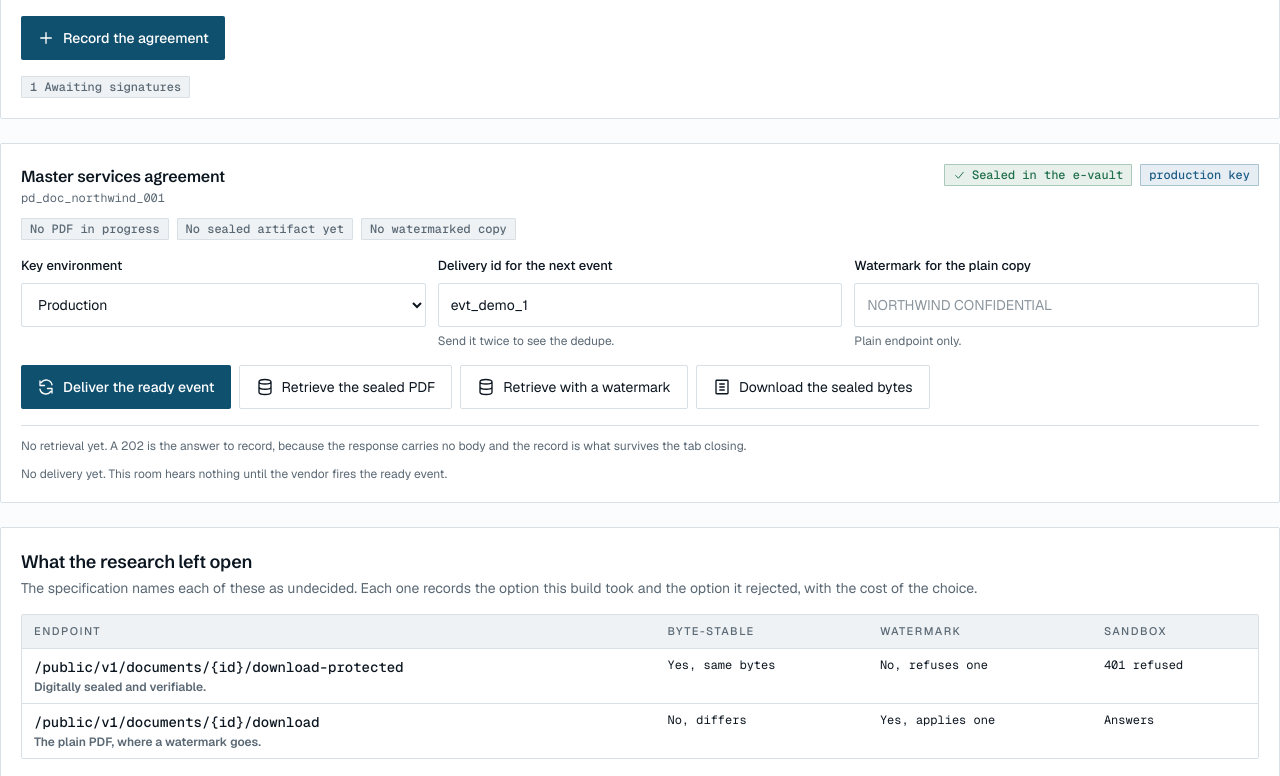
Test: the refusals › names the endpoint a 401 tells a sandbox caller to use instead
(page scrolled)
Click the button "Retrieve the sealed PDF": [346, 386] box left=239, top=364, right=452, bottom=408
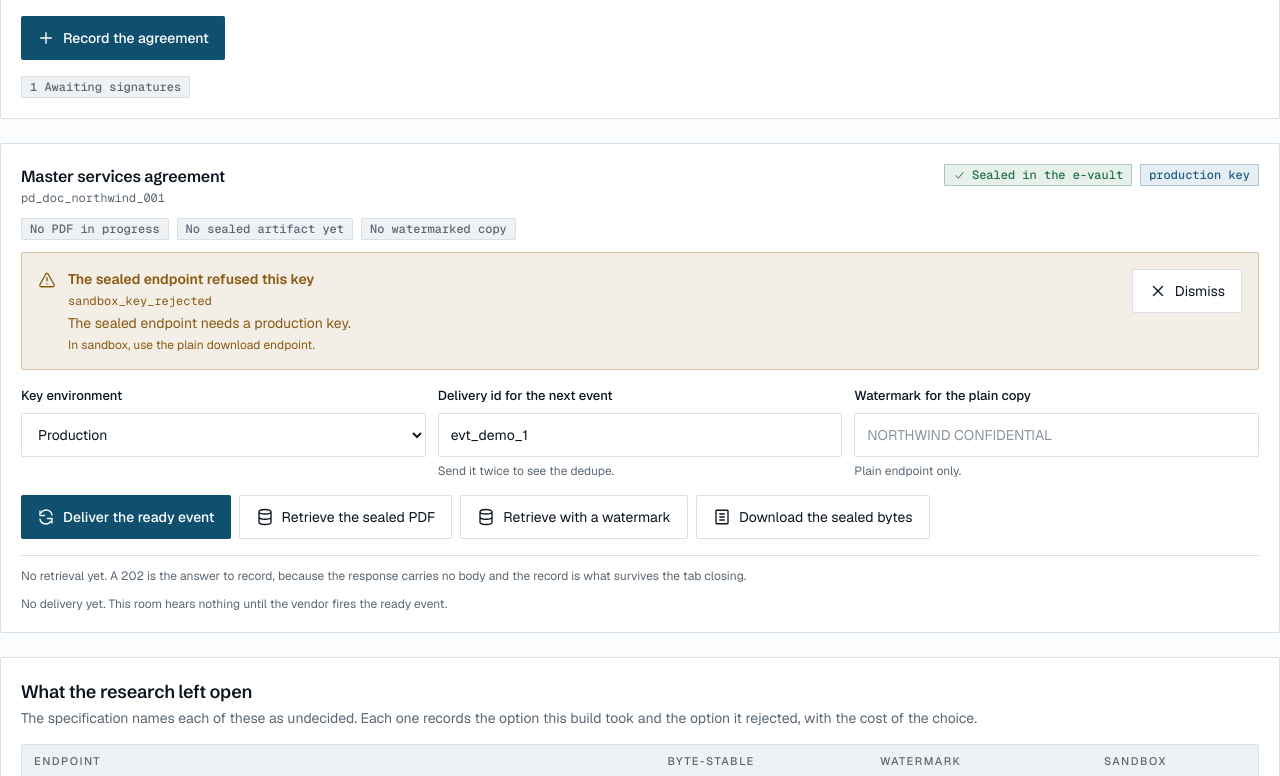
Check: the text "The sealed endpoint refused this key" is shown, box left=68, top=270, right=314, bottom=288
Check: the text "In sandbox, use the plain download endpoint." is shown, box left=68, top=337, right=315, bottom=353
